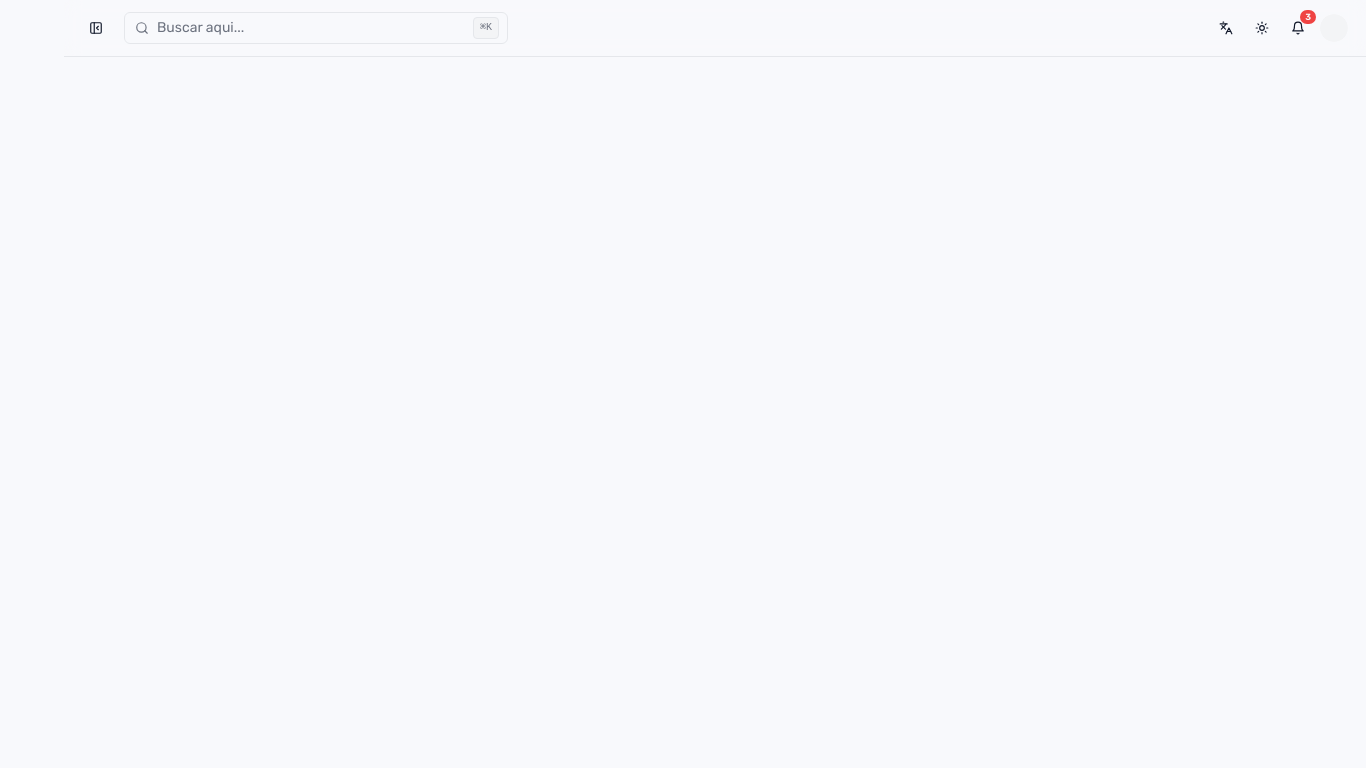
global search › matches without accents
The image size is (1366, 768).
Click the button "Buscar aqui... ⌘K" at (201, 28), box [124,12,508,44]
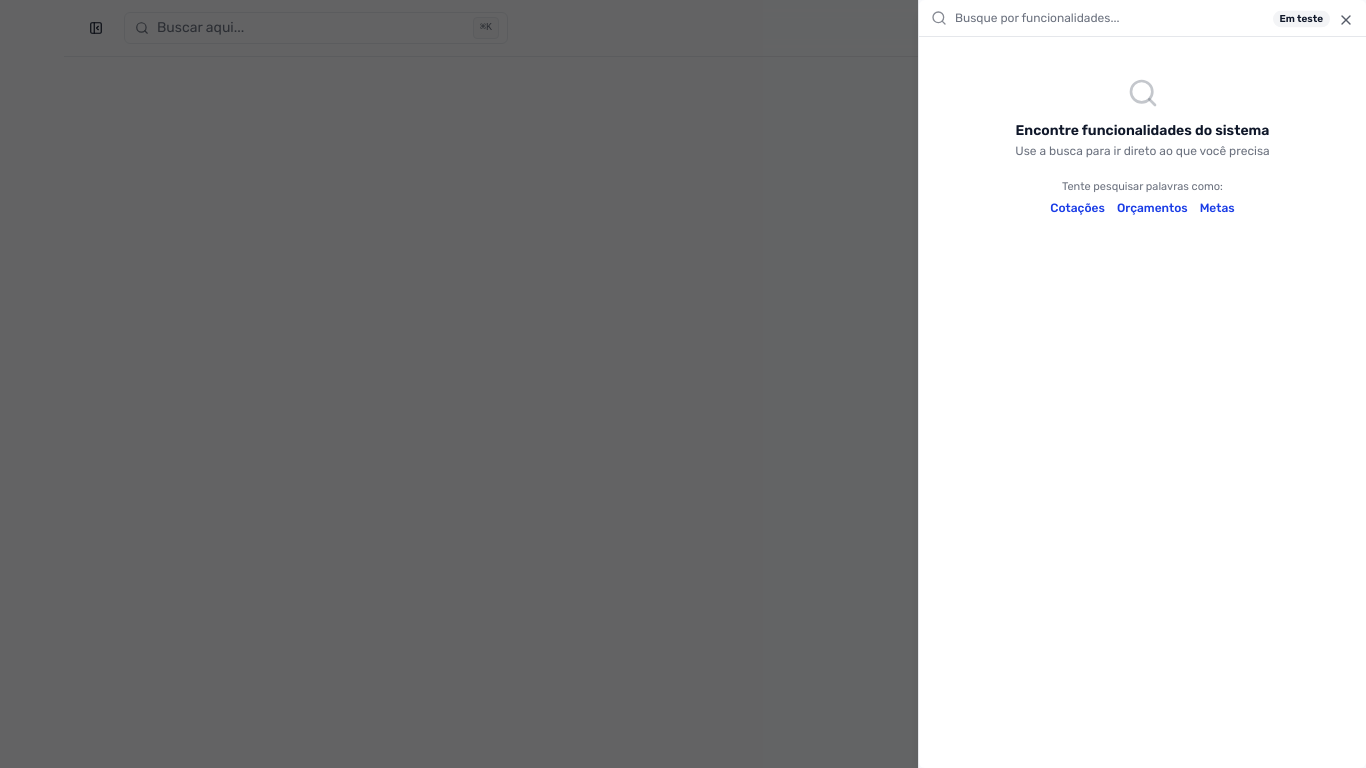
Type "orcamento" into the dropdown at (1154, 18), box [955,0,1354,36]
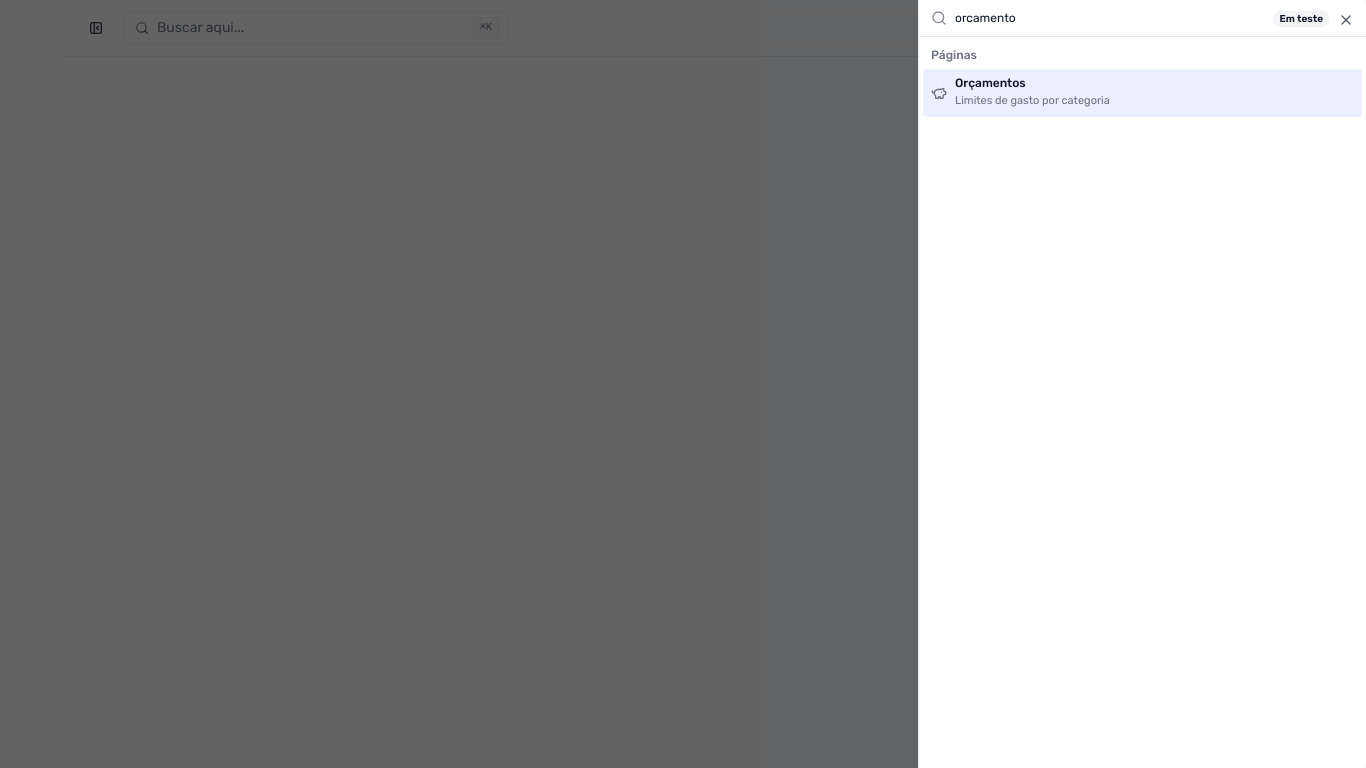
Expected: the option shows "Orçamentos", [923,69,1362,117]
